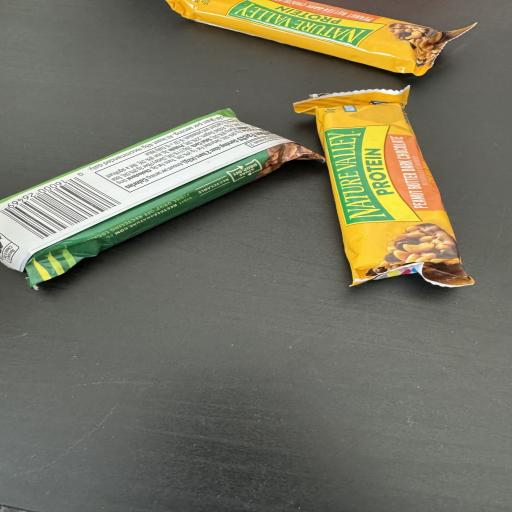granola: (0, 109, 323, 286), (294, 87, 473, 286), (167, 0, 473, 75)
